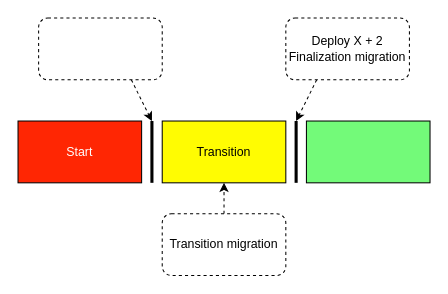
Image size: 448x294. Some labels were removed from this diagram. Here are the shapes that lost their labels. From the top down, the box of each, then its label:
(38, 17, 162, 80): Deploy X + 1 Initial migration
(305, 120, 430, 183): End
